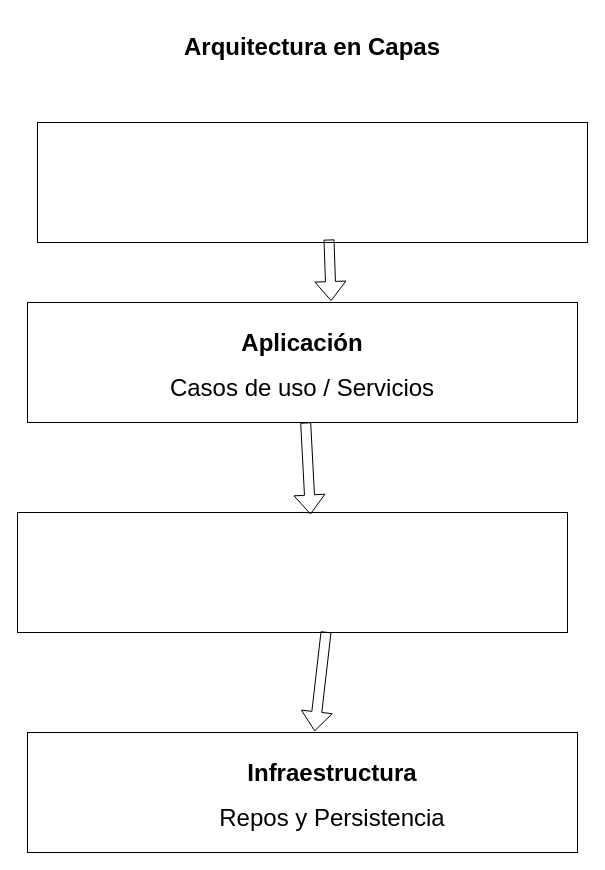
Some shapes in this 605 by 870 pixel diagram are drawn without their labels. Each missing label, with the box of its shape:
API (FastApi) Controladores / Enpoint: (36, 122, 588, 242)
Dominio Modelos +Reglas de negocio: (16, 512, 568, 632)
